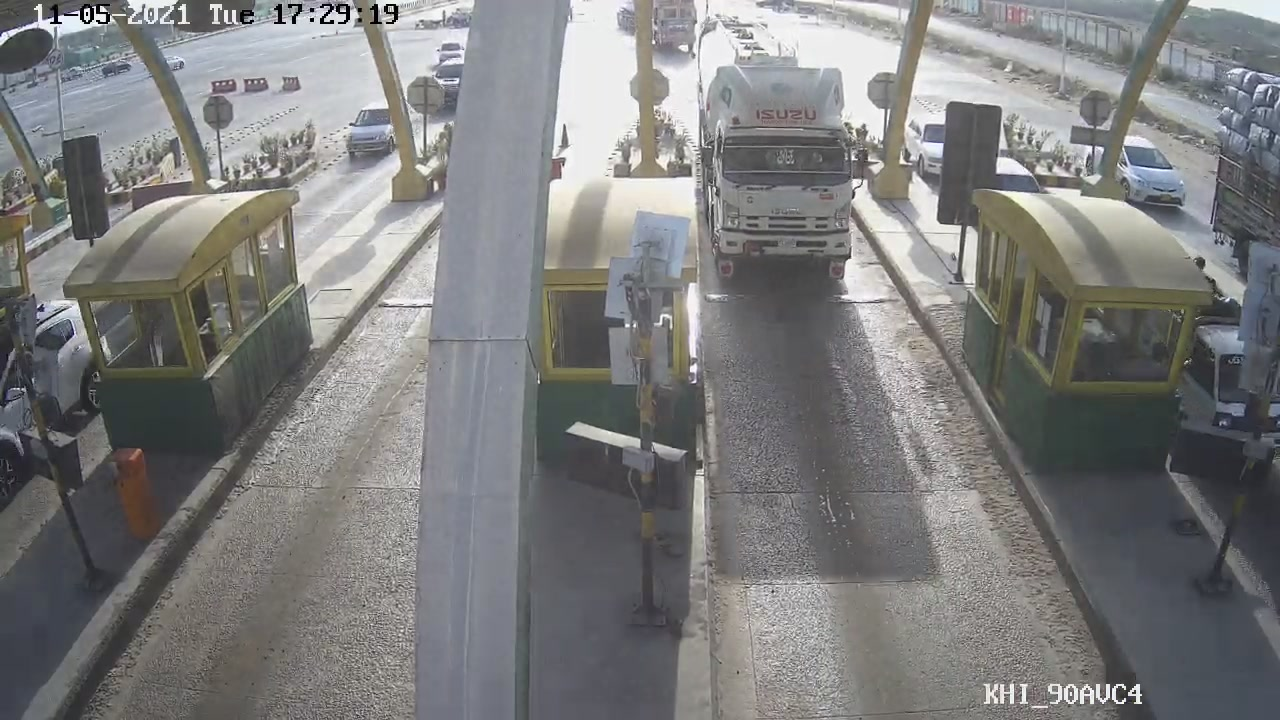F6: (684, 33, 885, 296)
